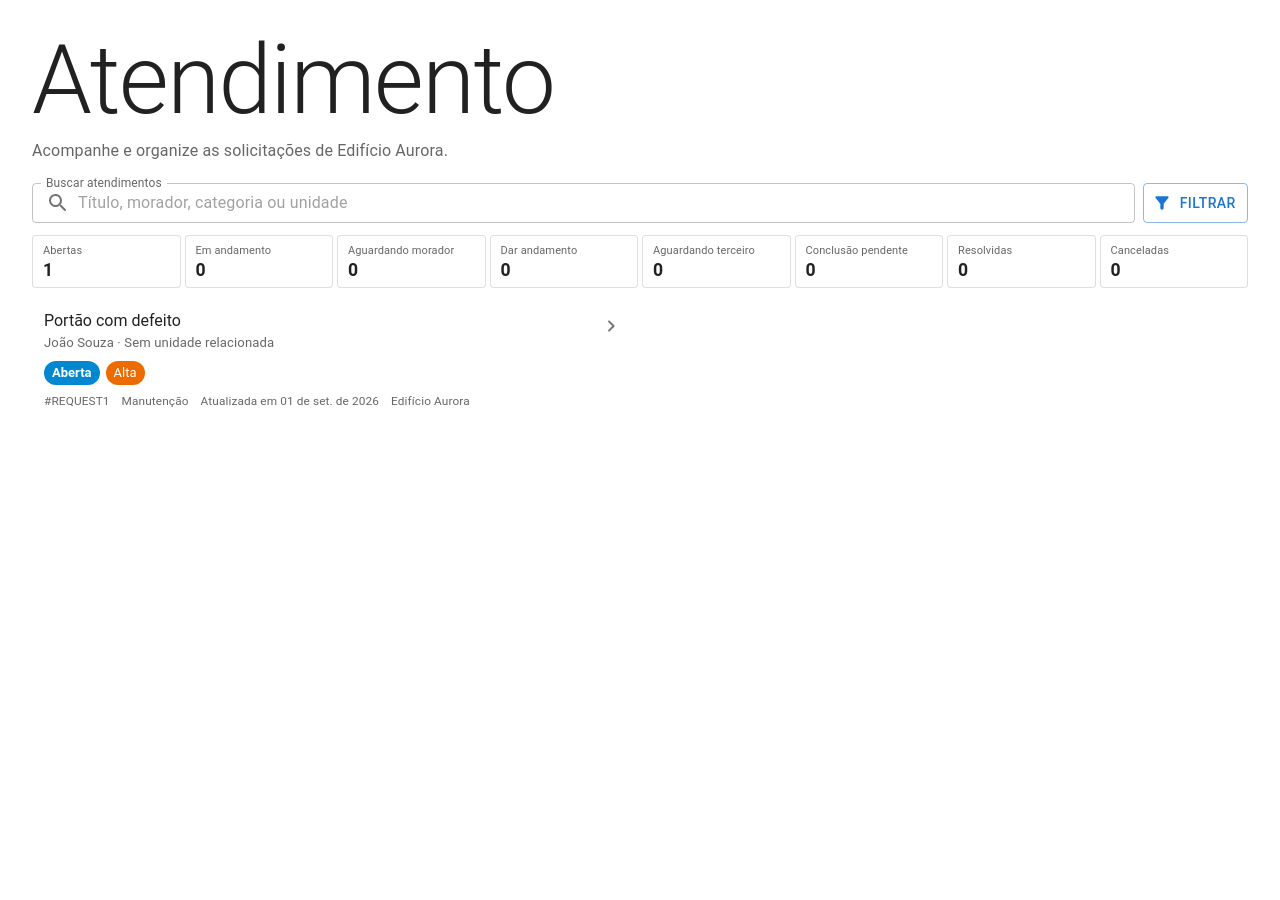
Test case: mobile management hierarchy › keeps the request list before summary and opens mobile filters
Expected: the heading "Portão com defeito" is shown, 44,311 -> 181,330
Expected: the element with test id "management-request-list" is shown, 32,300 -> 635,423
Click the button "Filtrar": point(1196, 203) 1144,183 -> 1248,223
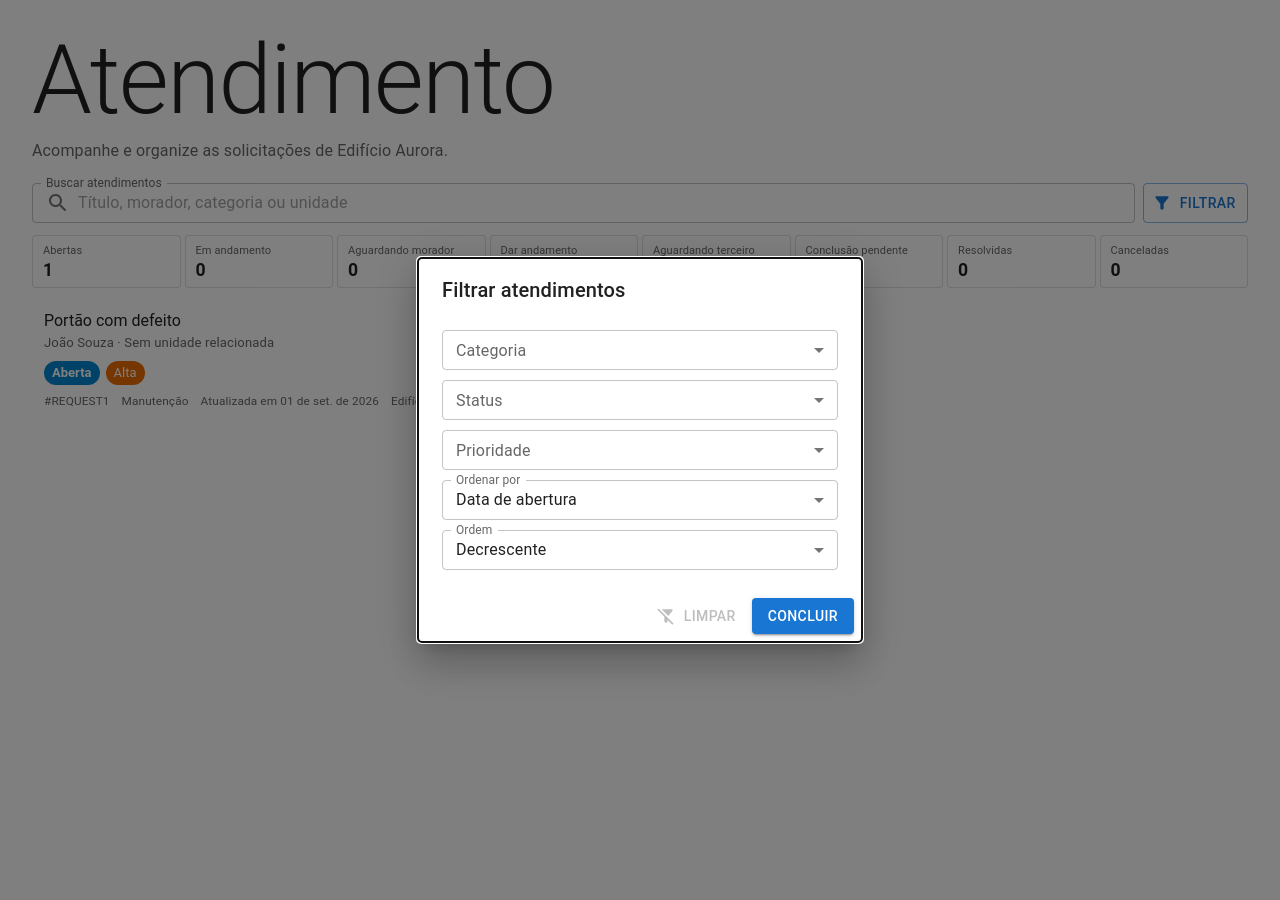
Now the dialog "Filtrar atendimentos" is shown, box 418,258 -> 862,642
Click the button "Concluir": point(803, 616) 752,598 -> 854,634
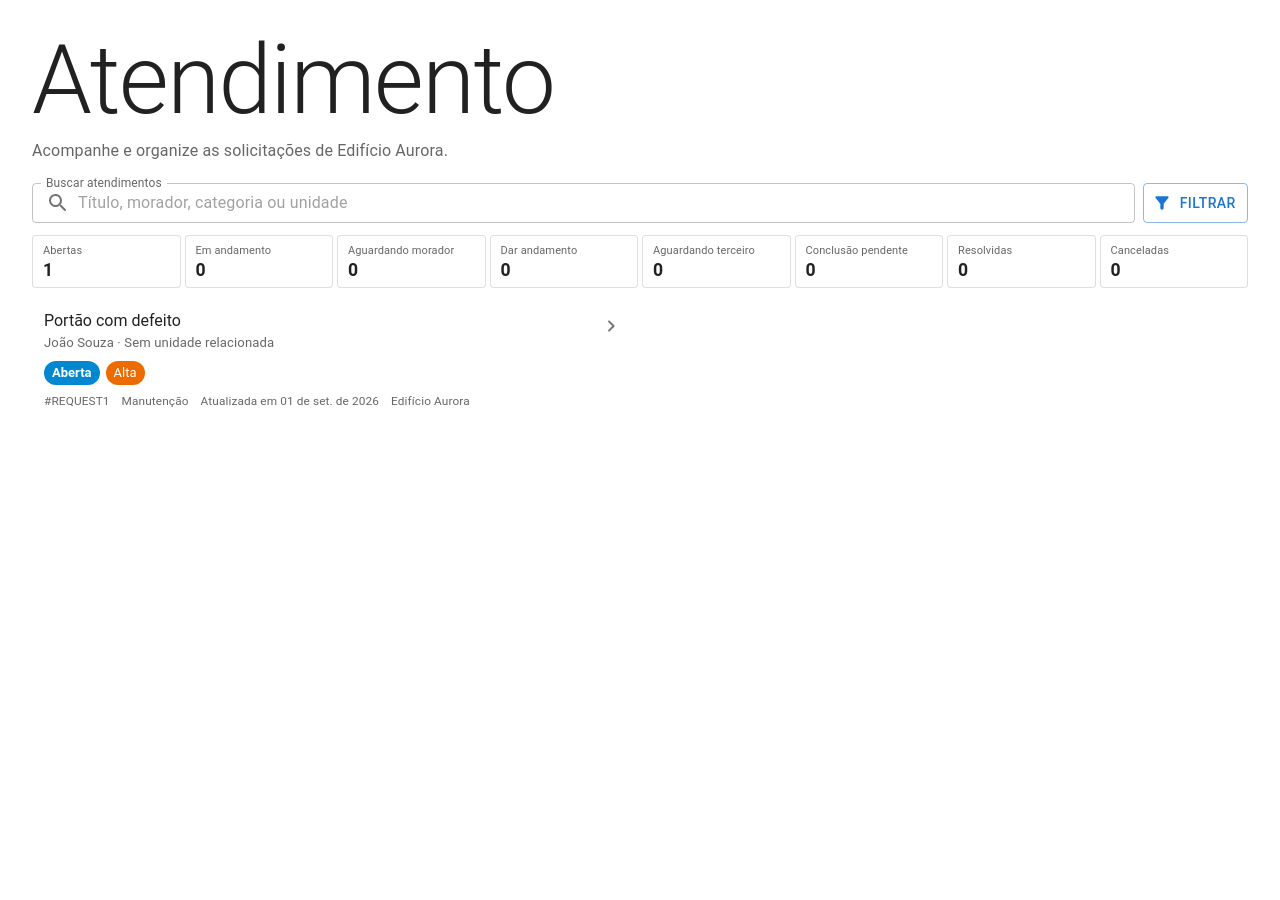
Now the dialog is gone
